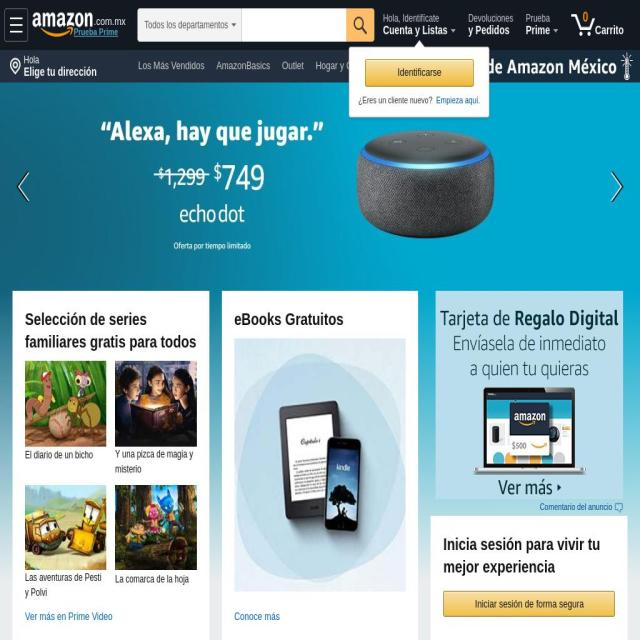button: (234, 338, 406, 592), (0, 82, 50, 291), (590, 82, 640, 291), (390, 50, 640, 82), (25, 361, 107, 447), (115, 361, 197, 447), (25, 484, 107, 570), (115, 484, 197, 570), (443, 591, 616, 617), (33, 4, 133, 46), (444, 592, 615, 616), (377, 5, 462, 47), (5, 8, 116, 38), (7, 51, 104, 83), (365, 59, 474, 87), (565, 5, 637, 47), (25, 608, 197, 624), (234, 608, 406, 624), (462, 5, 520, 47), (520, 5, 564, 47), (133, 128, 215, 150), (250, 128, 332, 150), (189, 92, 270, 113), (133, 55, 210, 77), (133, 165, 208, 187), (247, 165, 321, 187), (310, 55, 377, 77), (211, 55, 276, 77), (133, 92, 188, 113), (539, 502, 623, 513), (4, 8, 28, 42), (210, 165, 246, 187), (217, 128, 250, 150), (271, 92, 305, 113), (277, 55, 309, 77), (74, 28, 118, 36)
field: (242, 9, 346, 41), (346, 8, 374, 42)
heading: (443, 532, 616, 578), (25, 308, 197, 352), (234, 308, 406, 330)
iframe: (435, 291, 623, 499)
image: (234, 338, 406, 592), (390, 50, 640, 82), (25, 361, 107, 447), (115, 361, 197, 447), (25, 484, 107, 570), (115, 484, 197, 570), (33, 12, 93, 38), (571, 14, 596, 36), (8, 57, 22, 76), (10, 18, 22, 32), (614, 502, 623, 512)
link: (14, 165, 36, 208), (604, 165, 626, 208), (436, 95, 480, 105)
text: (366, 60, 474, 85), (115, 446, 197, 476), (25, 570, 107, 600), (144, 12, 229, 39), (24, 66, 104, 82), (115, 571, 189, 587), (25, 448, 93, 463), (382, 23, 448, 37), (468, 24, 516, 41), (358, 95, 435, 105), (540, 502, 614, 512), (383, 13, 445, 24), (468, 13, 520, 24), (595, 23, 624, 37), (94, 16, 125, 27), (526, 23, 550, 37), (526, 13, 556, 24), (24, 54, 46, 66), (353, 17, 367, 34)
